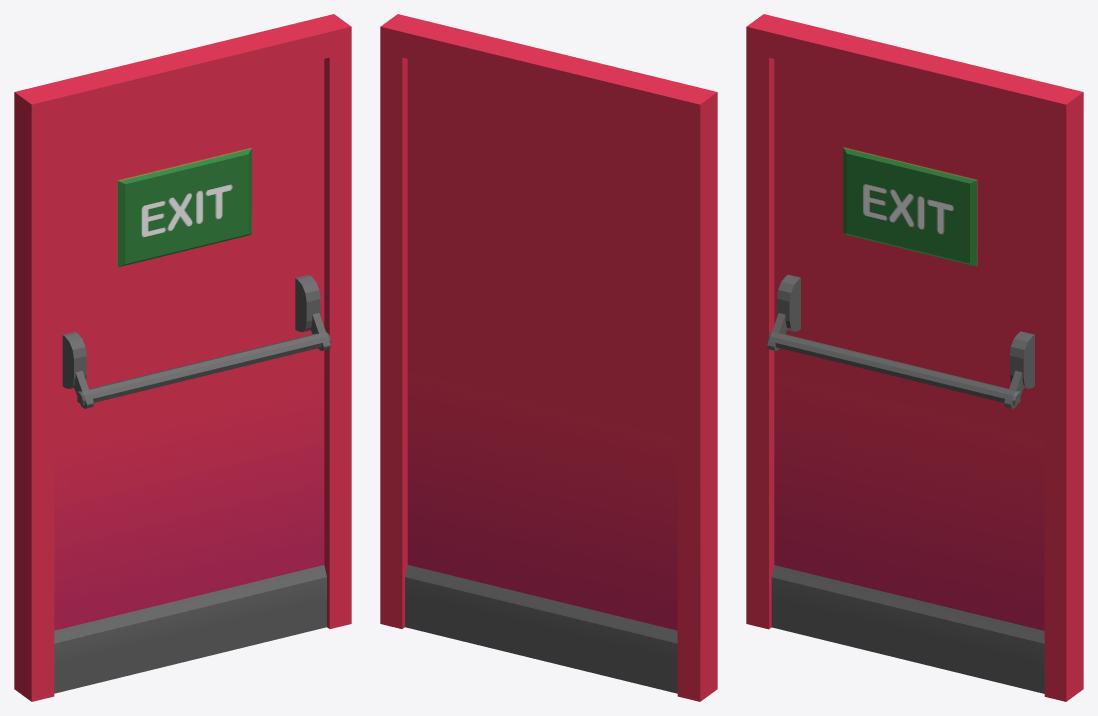
File: exit_door.fbx
3 views of the same model, side by side, from view 1: azimuth 30°, elevation 25°; view 2: azimuth 150°, elevation 25°; view 3: azimuth 330°, elevation 25° (orthographic).
Visible parts, largest first — view 1: Cube.001, Cube; view 2: Cube.001, Cube; view 3: Cube.001, Cube.
Part boxes in pixels (x1=…): Cube.001: x1=54, y1=59, x2=330, y2=693; Cube: x1=14, y1=14, x2=351, y2=701; Cube.001: x1=405, y1=59, x2=677, y2=693; Cube: x1=380, y1=14, x2=717, y2=701; Cube.001: x1=767, y1=59, x2=1044, y2=693; Cube: x1=746, y1=14, x2=1083, y2=701.
Bounding box in the file's own units: 151 × 270 × 28.27.
1 material, 1 textured.
